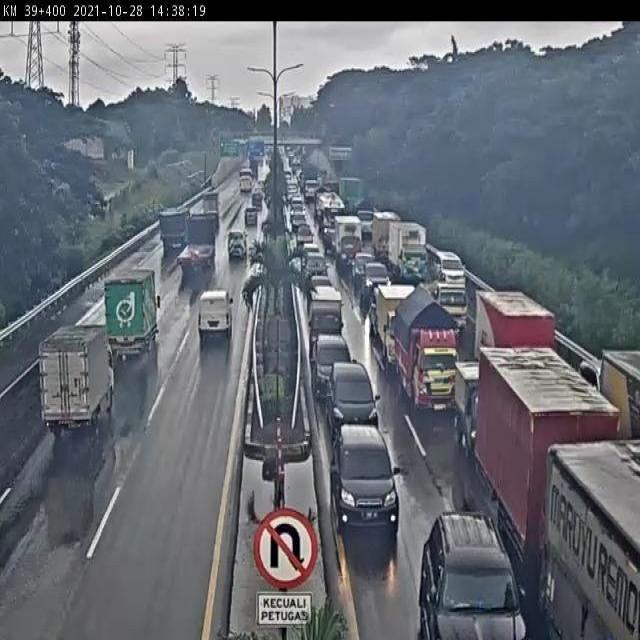big truck: (477, 339, 600, 549), (544, 438, 640, 640), (178, 220, 216, 275), (158, 203, 199, 245)
car: (418, 508, 522, 640), (475, 290, 558, 394), (330, 420, 397, 535), (328, 359, 386, 429), (309, 324, 353, 404), (195, 286, 237, 346), (432, 246, 473, 294), (364, 259, 391, 313), (352, 249, 378, 295), (224, 226, 251, 262), (242, 204, 260, 231)
small truck: (21, 315, 122, 445), (578, 323, 640, 457), (99, 259, 166, 368), (398, 295, 458, 412), (449, 359, 507, 461), (360, 280, 425, 359), (385, 219, 432, 289), (418, 279, 472, 333), (365, 200, 399, 269), (305, 286, 342, 342)
